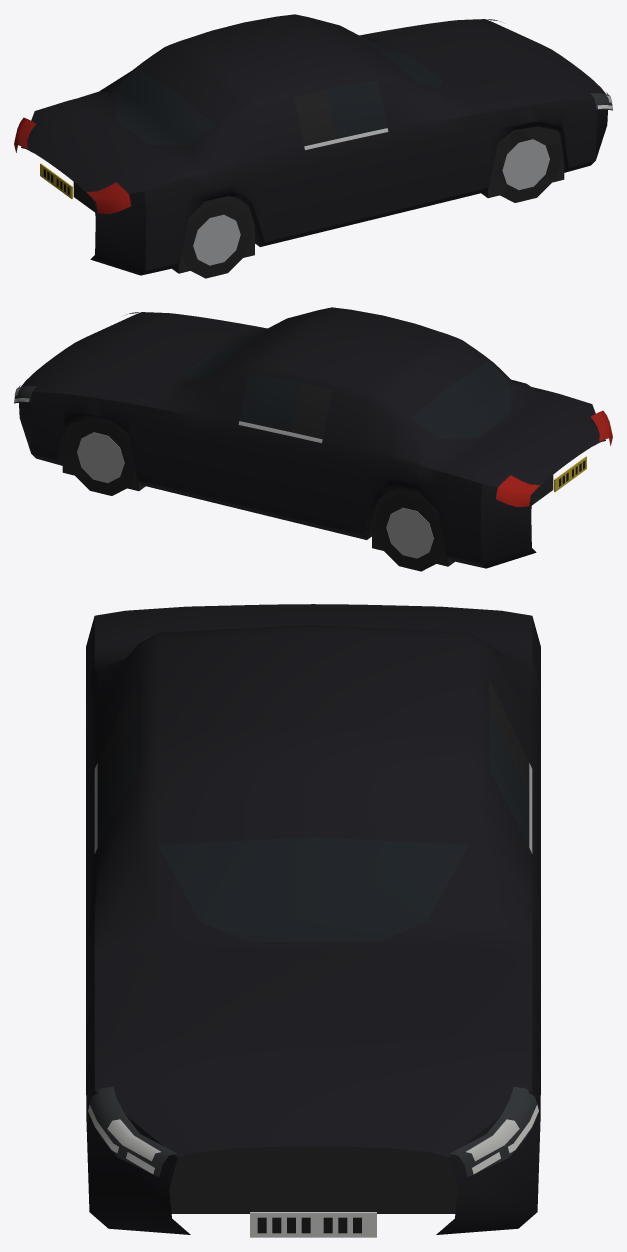
Rendered from SM_Prop_parked_car_105_LOD1.glb.
3 renders of one model, top to bottom at view 1: azimuth 30°, elevation 25°; view 2: azimuth 150°, elevation 25°; view 3: azimuth 270°, elevation 25°, orthographic. The views are drawn at different scales.
Visible parts, largest first — view 1: SM_Prop_parked_car_105_LOD1; view 2: SM_Prop_parked_car_105_LOD1; view 3: SM_Prop_parked_car_105_LOD1.
Boxes of the visible parts, x1=… form: SM_Prop_parked_car_105_LOD1: x1=14, y1=14, x2=612, y2=278; SM_Prop_parked_car_105_LOD1: x1=14, y1=307, x2=612, y2=571; SM_Prop_parked_car_105_LOD1: x1=86, y1=604, x2=540, y2=1237.
Bounding box in the file's own units: 4.89 × 1.46 × 1.86.
